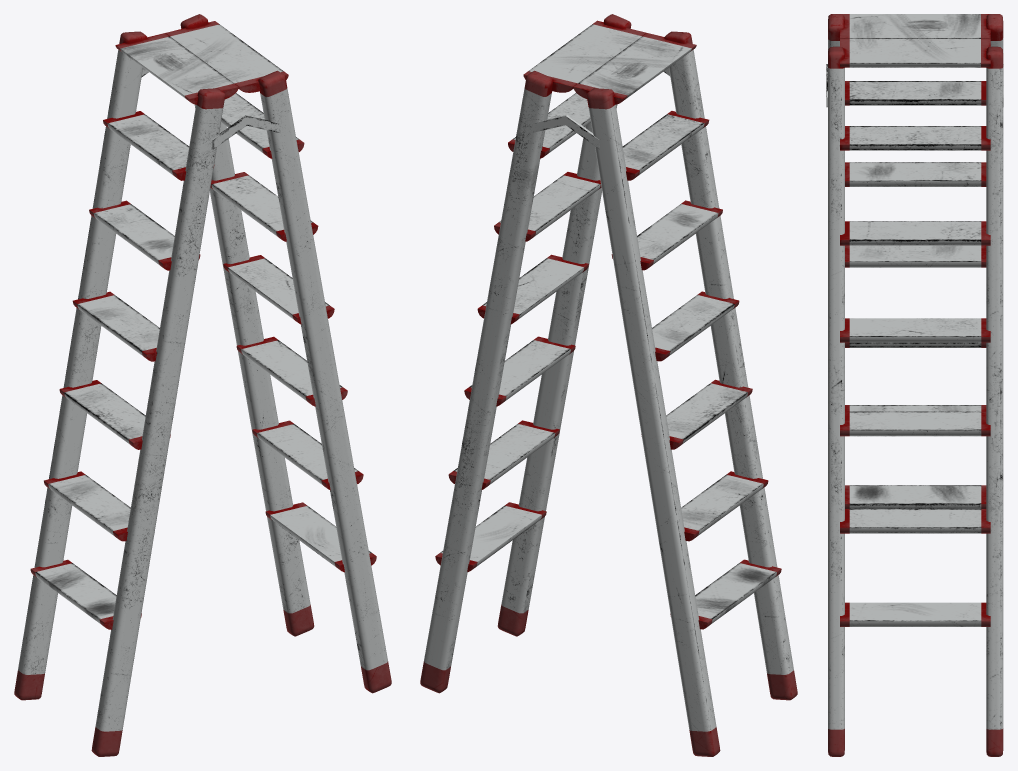
The model's file is 휴대용사다리.fbx.
3 renders of one model, left to right at view 1: azimuth 30°, elevation 25°; view 2: azimuth 150°, elevation 25°; view 3: azimuth 270°, elevation 25°, orthographic. The views are drawn at different scales.
Parts seen in each view (by area): view 1: 사다리; view 2: 사다리; view 3: 사다리.
Part boxes in pixels (<box>): 사다리: <box>14,14,391,756</box>; 사다리: <box>420,14,797,756</box>; 사다리: <box>826,14,1003,756</box>.
Bounding box in the file's own units: 71.46 × 148 × 36.43.
